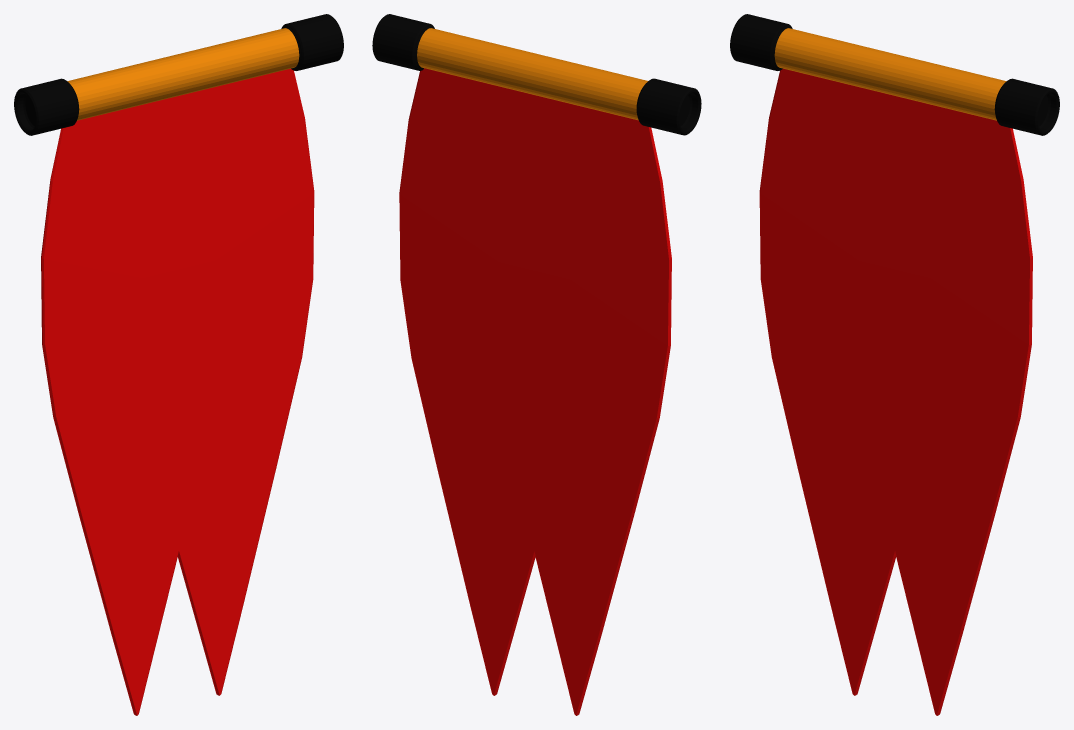
The model's file is crest.fbx.
3 renders of one model, left to right at view 1: azimuth 30°, elevation 25°; view 2: azimuth 150°, elevation 25°; view 3: azimuth 330°, elevation 25°, orthographic.
Parts seen in each view (by area): view 1: crest; view 2: crest; view 3: crest.
Part boxes in pixels (left/top/right/bottom): crest: left=14, top=14, right=343, bottom=715; crest: left=372, top=14, right=701, bottom=715; crest: left=730, top=14, right=1059, bottom=715.
Bounding box in the file's own units: 34.17 × 69.45 × 4.69.
